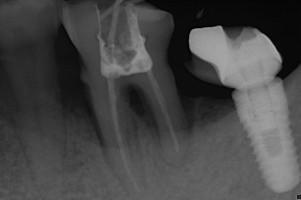Endo-Periodontal Lesion: (120, 82, 159, 135)
